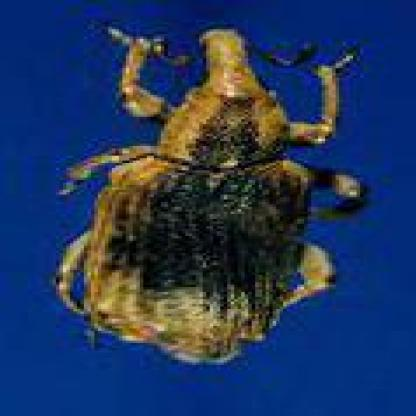rice-bug: (57, 23, 378, 364)
